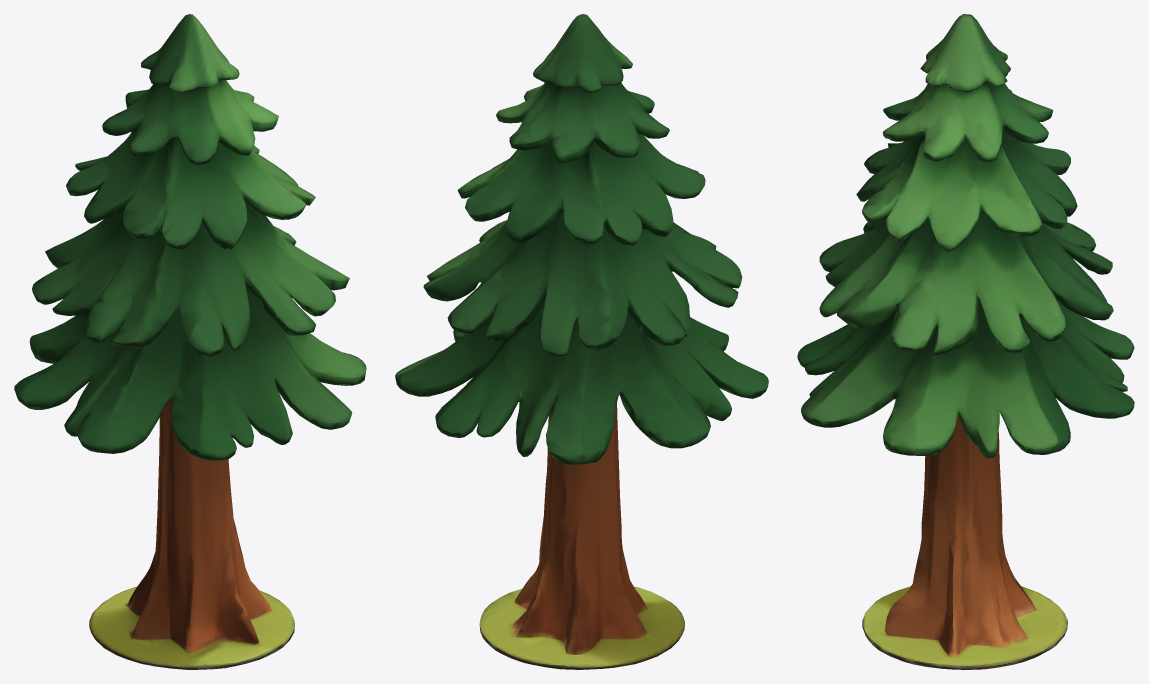
File: redwood-tree.glb
3 renders of one model, left to right at view 1: azimuth 30°, elevation 25°; view 2: azimuth 150°, elevation 25°; view 3: azimuth 270°, elevation 25°, orthographic.
Visible parts, largest first — view 1: geometry_0; view 2: geometry_0; view 3: geometry_0.
Boxes of the visible parts, bbox=[...] form: geometry_0: bbox=[14, 14, 366, 669]; geometry_0: bbox=[395, 14, 768, 669]; geometry_0: bbox=[797, 14, 1134, 669].
Bounding box in the file's own units: 0.5019 × 1 × 0.4996.
Materials: 1 (1 with a texture image).
